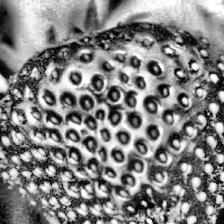Anthracnose Fruit Rot: (124, 192, 177, 224)
